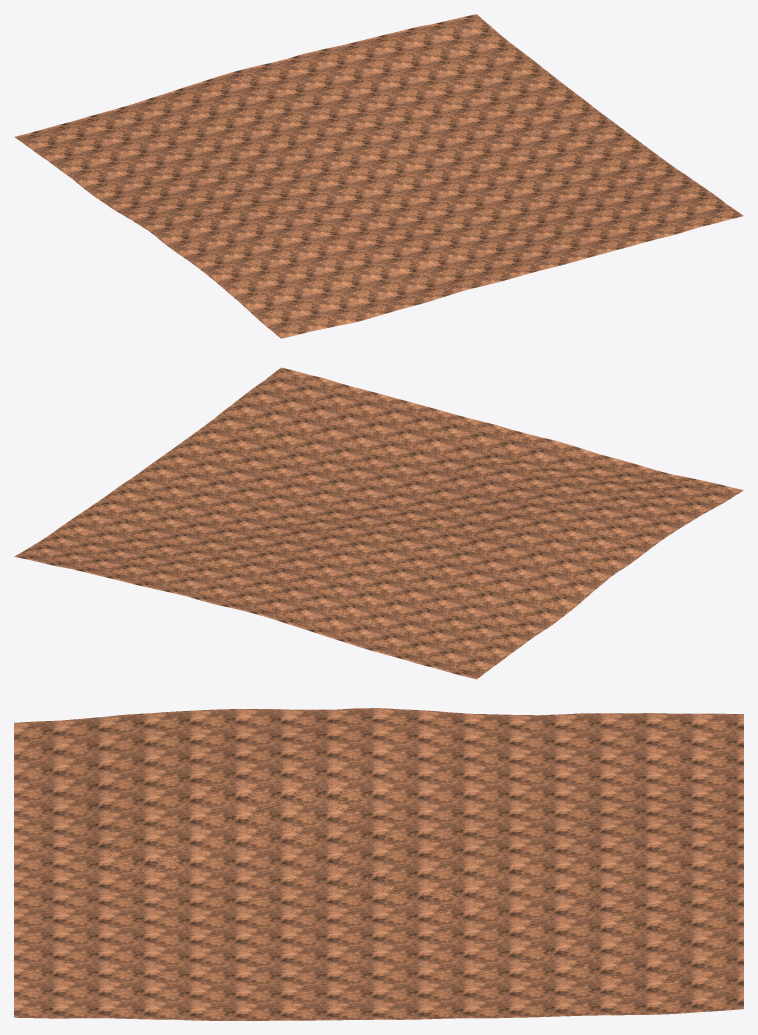
The model's file is terrain_09_19.dae.
The picture shows the model from 3 angles, top to bottom: view 1: azimuth 30°, elevation 25°; view 2: azimuth 150°, elevation 25°; view 3: azimuth 270°, elevation 25°; orthographic projection. The views are drawn at different scales.
Visible parts, largest first — view 1: terrain_09_19-node; view 2: terrain_09_19-node; view 3: terrain_09_19-node.
Boxes of the visible parts, box(x1,y1,x2,y2) form: terrain_09_19-node: box(14, 14, 743, 338); terrain_09_19-node: box(14, 367, 743, 679); terrain_09_19-node: box(14, 708, 743, 1020).
Bounding box in the file's own units: 128 × 128 × 5.4.
1 material, 1 textured.
